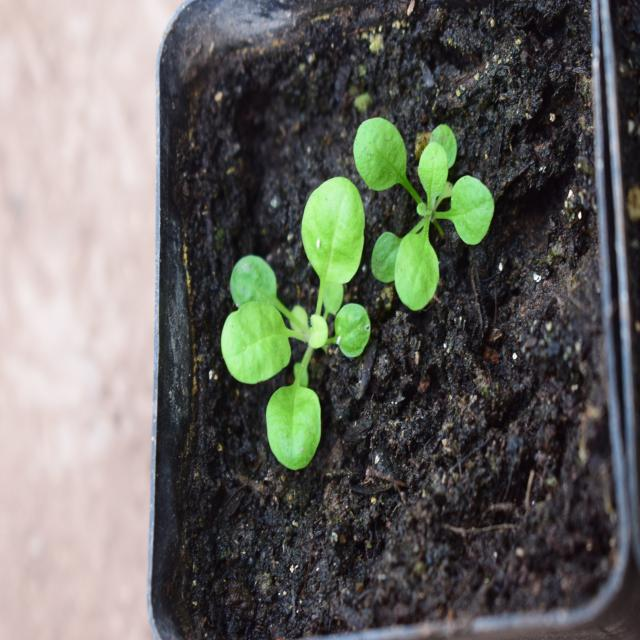Shepherd_Purse: (211, 171, 377, 452), (349, 114, 487, 314)
